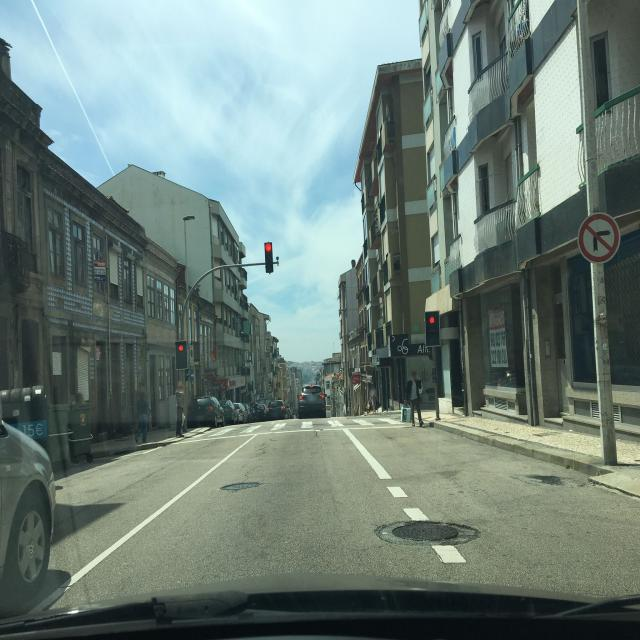car: (0, 381, 58, 610), (187, 396, 224, 428), (297, 385, 326, 419), (220, 400, 238, 425), (266, 400, 287, 420), (233, 402, 249, 423)
